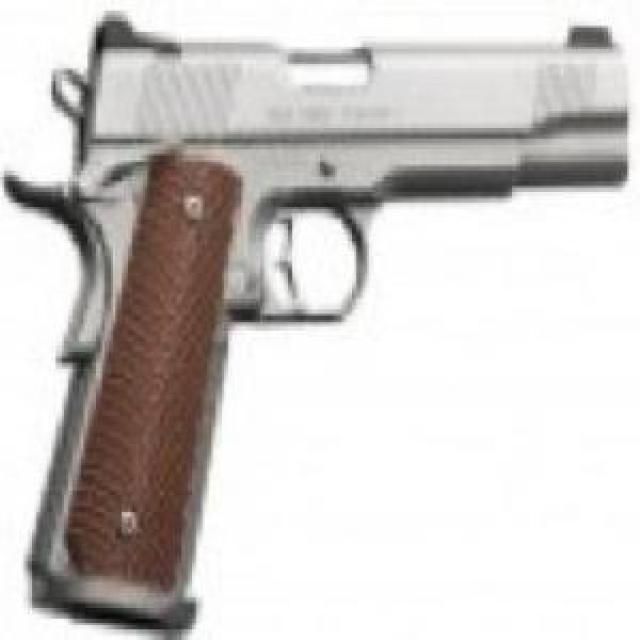pistol: (8, 10, 621, 636)
